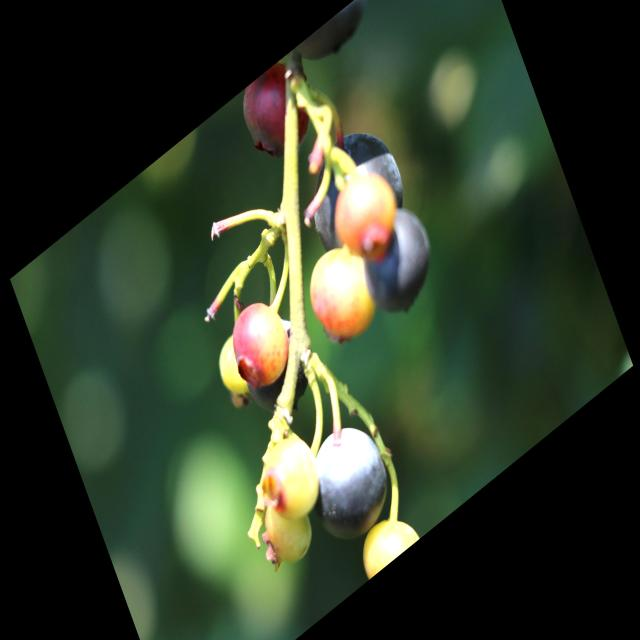blueberry: (289, 98, 418, 285), (290, 401, 407, 571), (344, 184, 450, 341), (227, 299, 325, 445)
blueberry-halfripe: (237, 52, 318, 173), (222, 284, 302, 406), (301, 234, 381, 356), (325, 153, 403, 270)
blueberry-unripe: (252, 424, 326, 534), (257, 486, 326, 591), (346, 496, 420, 586)
